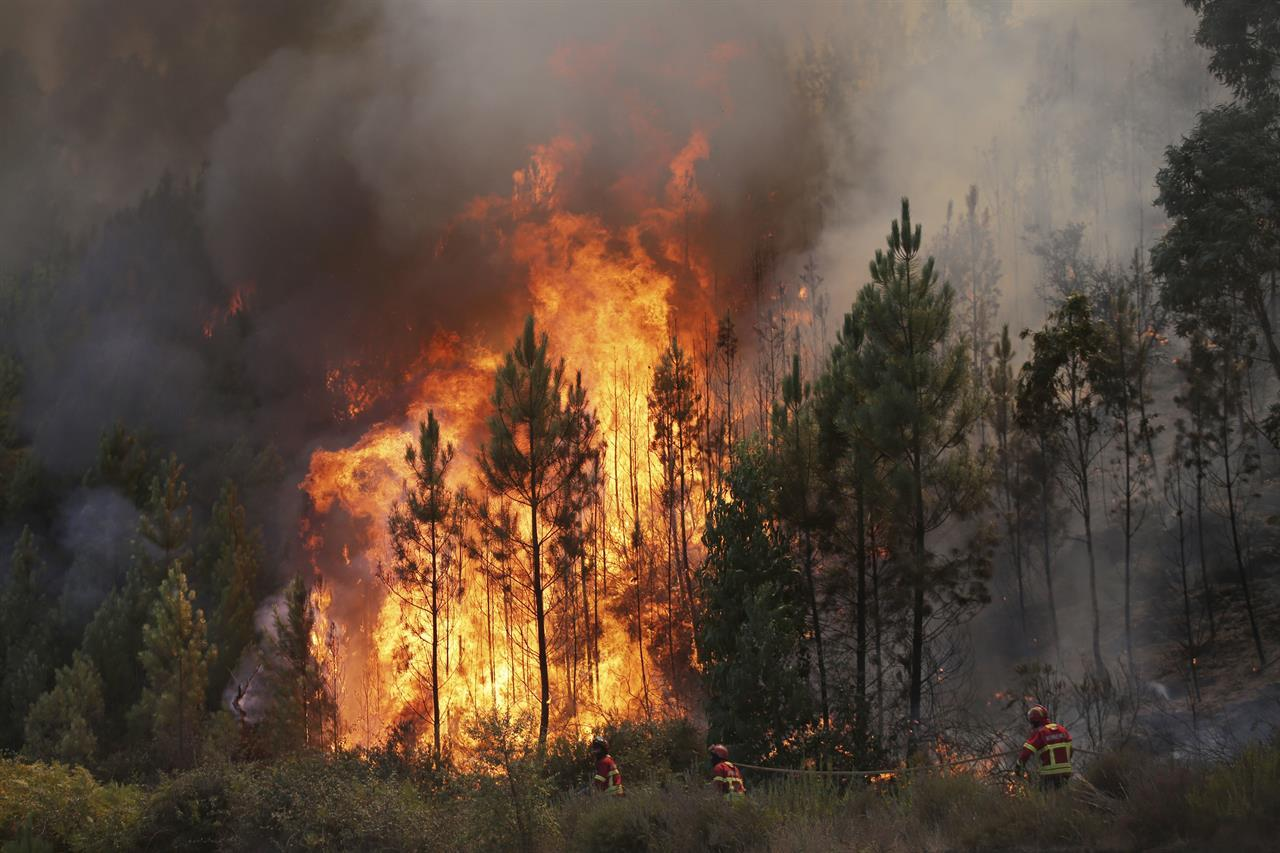fire: (276, 144, 747, 803)
